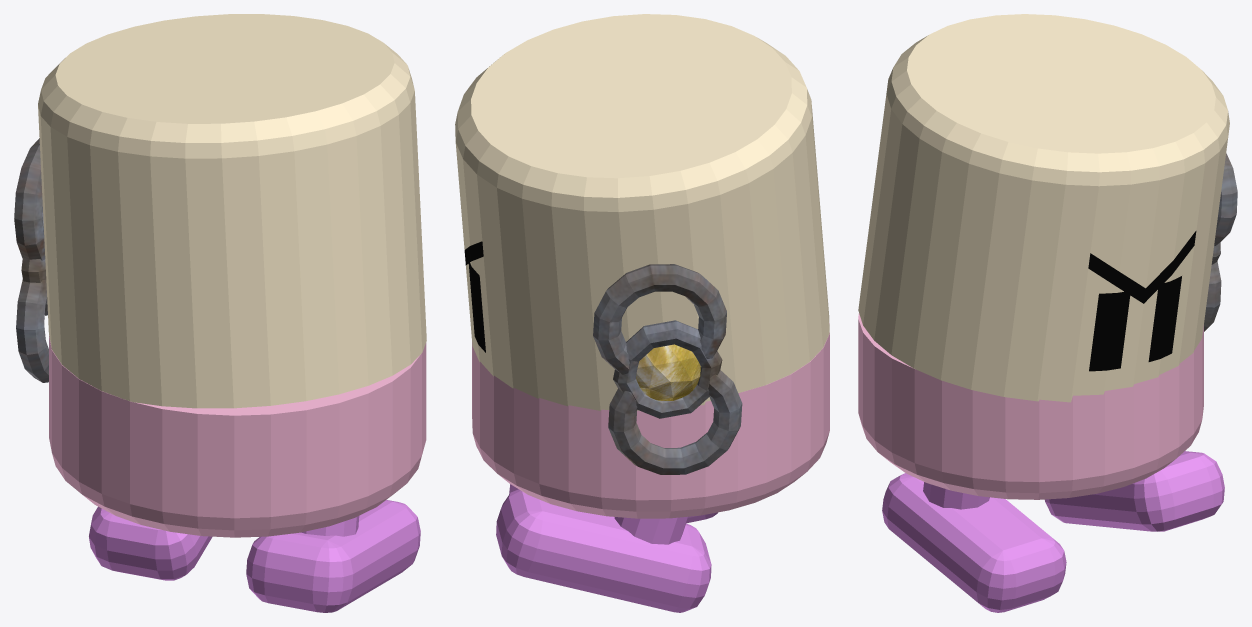
File: Toasters055.obj
3 renders of one model, left to right at view 1: azimuth 30°, elevation 25°; view 2: azimuth 150°, elevation 25°; view 3: azimuth 270°, elevation 25°, orthographic. The views are drawn at different scales.
Parts seen in each view (by area): view 1: Head, Jaw, RightLeg, WindupKey, LeftLeg; view 2: Head, Jaw, WindupKey, LeftLeg; view 3: Head, Jaw, RightLeg, LeftLeg, WindupKey.
Part boxes in pixels (x1=…): Head: x1=38, y1=14, x2=426, y2=408; Jaw: x1=49, y1=335, x2=426, y2=537; RightLeg: x1=246, y1=500, x2=420, y2=612; WindupKey: x1=14, y1=138, x2=48, y2=382; LeftLeg: x1=89, y1=506, x2=212, y2=580; Head: x1=455, y1=14, x2=829, y2=410; Jaw: x1=472, y1=323, x2=829, y2=518; WindupKey: x1=593, y1=264, x2=742, y2=474; LeftLeg: x1=496, y1=489, x2=711, y2=612; Head: x1=858, y1=14, x2=1229, y2=402; Jaw: x1=858, y1=313, x2=1203, y2=499; RightLeg: x1=882, y1=473, x2=1066, y2=612; LeftLeg: x1=1045, y1=451, x2=1224, y2=531; WindupKey: x1=1204, y1=153, x2=1237, y2=331.
Bounding box in the file's own units: 101 × 154 × 110.
Materials: 6 (2 with a texture image).
